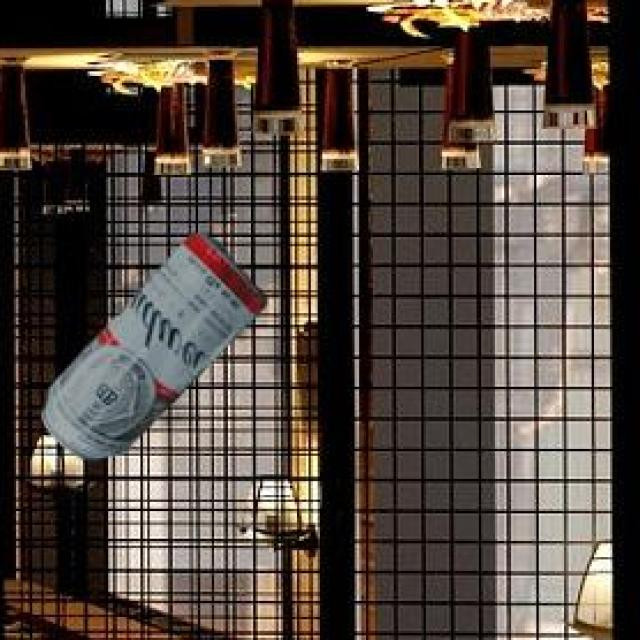logam: (38, 236, 261, 464)
